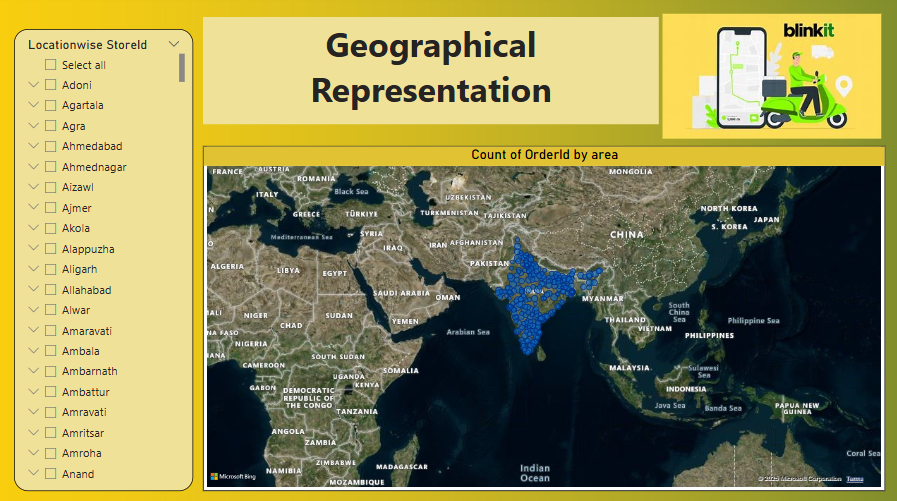

Layout of this report page (visuals, bound fields, positions):
{"tool":"powerbi","page":{"name":"Map","canvas":[1280,720],"ordinal":4},"visuals":[{"type":"image","box":[938.3,14.2,320.3,198.4],"z":0},{"type":"map","fields":{"Category":["customers.area"],"Size":["Measure Table.Count of OrderId"]},"box":[292,212.6,966.6,489],"z":1000},{"type":"slicer","fields":{"Values":["customers.area","orders.store_id"]},"box":[24.1,46.8,253.7,654.8],"z":2000},{"type":"textbox","box":[292,29.8,646.3,151.7],"z":3000}]}

Visuals, with their boxes in screenshot pixels (x1, y1, x2, y2), scaled from the page's 1280x720 canvas onto the 897x501 screenshot:
image: <region>658, 10, 882, 148</region>
map - customers.area x Measure Table.Count of OrderId: <region>205, 148, 882, 488</region>
slicer - customers.area x orders.store_id: <region>17, 33, 195, 488</region>
textbox: <region>205, 21, 658, 126</region>
